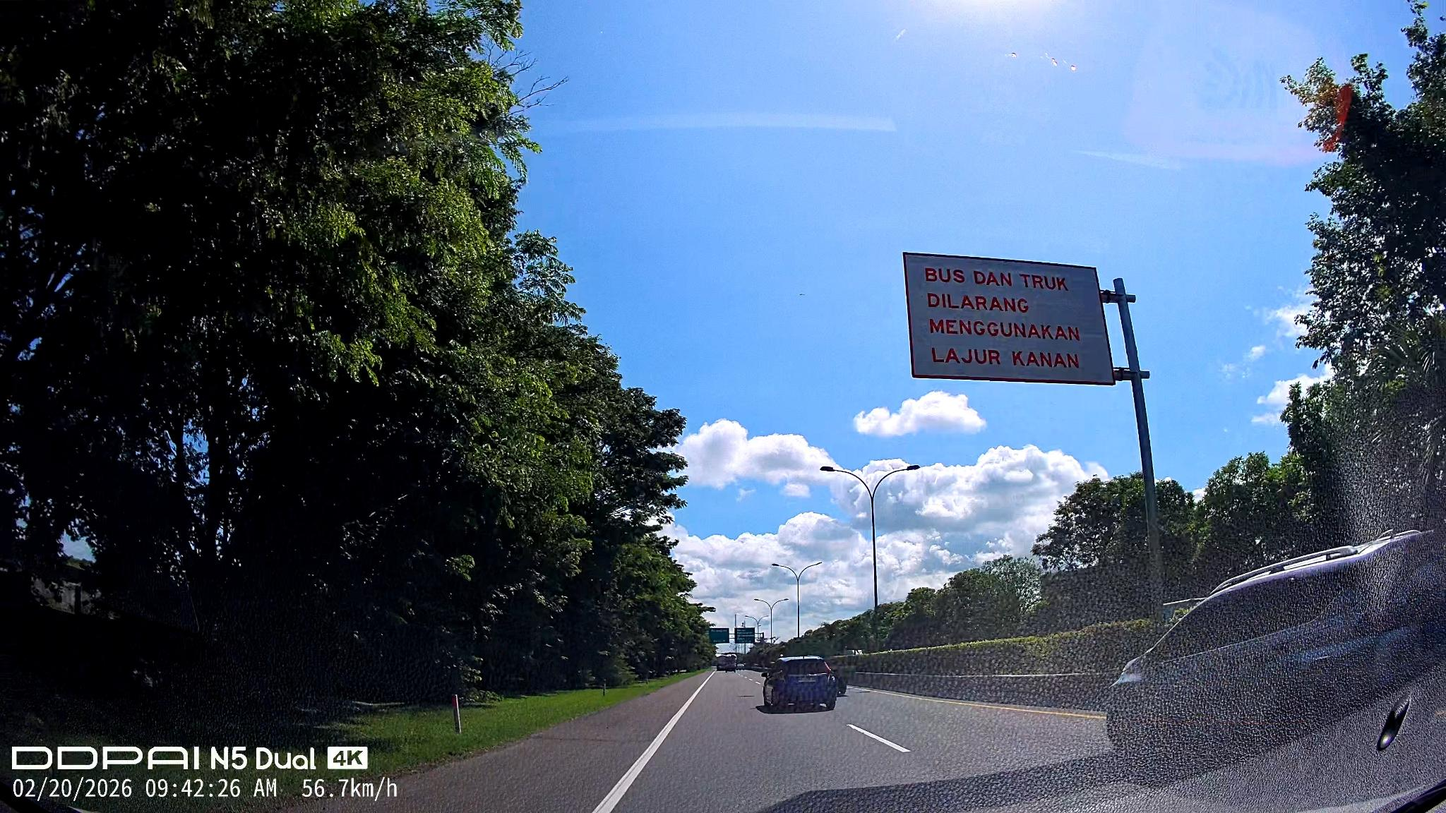rambu_teks: (902, 251, 1118, 386)
